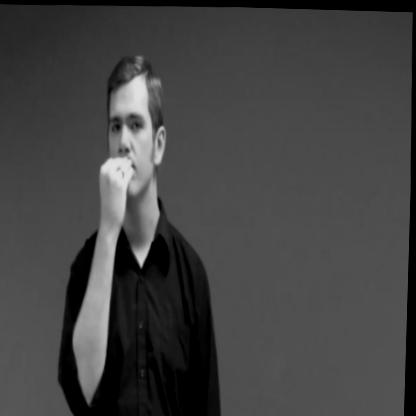Food: (92, 41, 185, 231)
